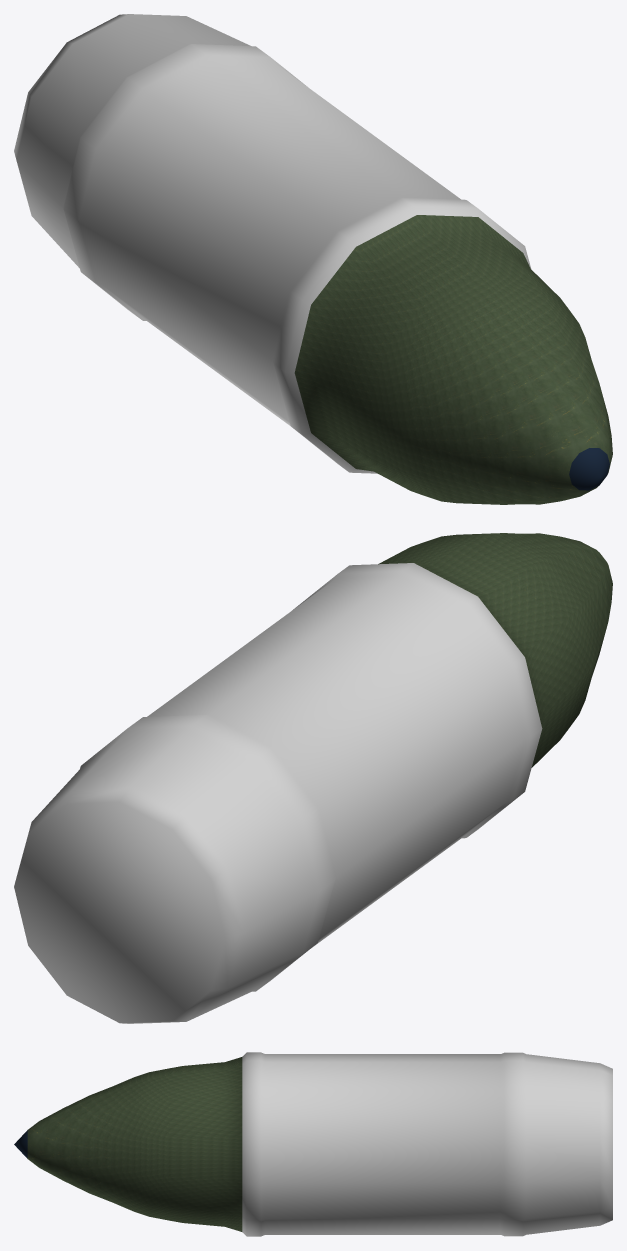
Rendered from Projectile_explosiove.fbx.
3 renders of one model, top to bottom at view 1: azimuth 30°, elevation 25°; view 2: azimuth 150°, elevation 25°; view 3: azimuth 270°, elevation 25°, orthographic. The views are drawn at different scales.
Parts seen in each view (by area): view 1: Cylinder; view 2: Cylinder; view 3: Cylinder.
Boxes of the visible parts, <box> form: Cylinder: <box>14,14,612,504</box>; Cylinder: <box>14,533,612,1023</box>; Cylinder: <box>14,1052,612,1236</box>.
Size of the model in its own units: 204 by 204 by 660.
